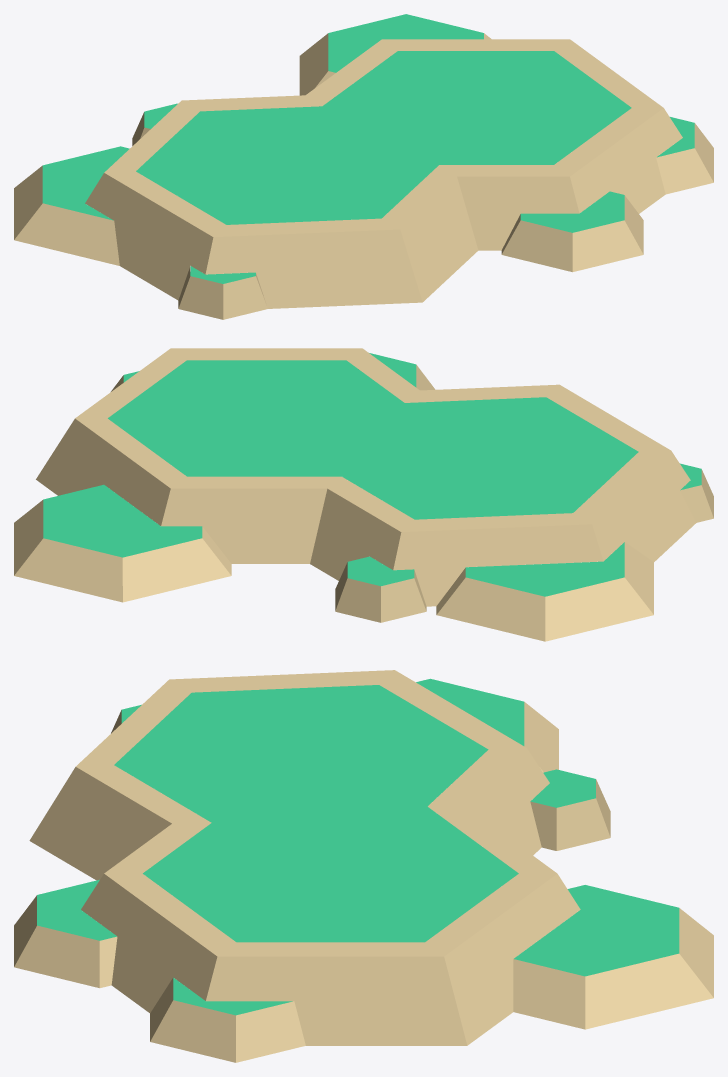
The model's file is rock-flat-grass.glb.
3 views of the same model, one above another, from view 1: azimuth 30°, elevation 25°; view 2: azimuth 150°, elevation 25°; view 3: azimuth 270°, elevation 25° (orthographic). The views are drawn at different scales.
Visible parts, largest first — view 1: rockFlatGrass; view 2: rockFlatGrass; view 3: rockFlatGrass.
Part boxes in pixels (x1,y1,x2,y2): rockFlatGrass: (14,14,713,319); rockFlatGrass: (14,348,713,641); rockFlatGrass: (14,670,713,1062).
Bounding box in the file's own units: 1.79 × 0.165 × 1.45.
